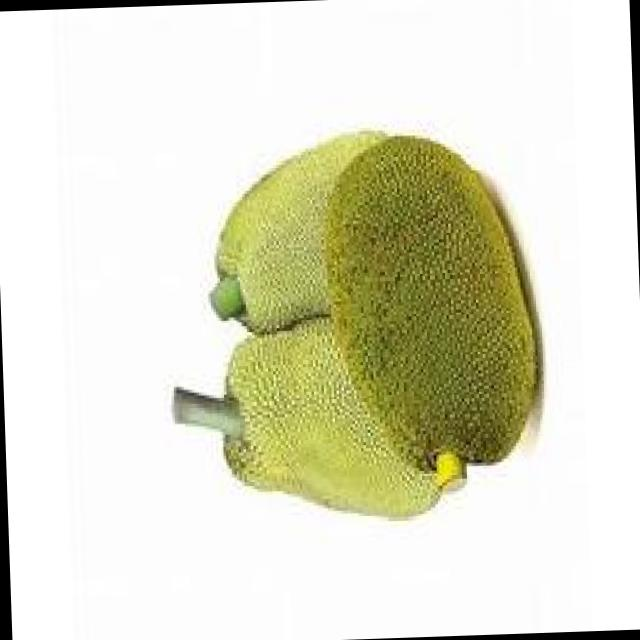Fruit: (190, 103, 566, 481)
